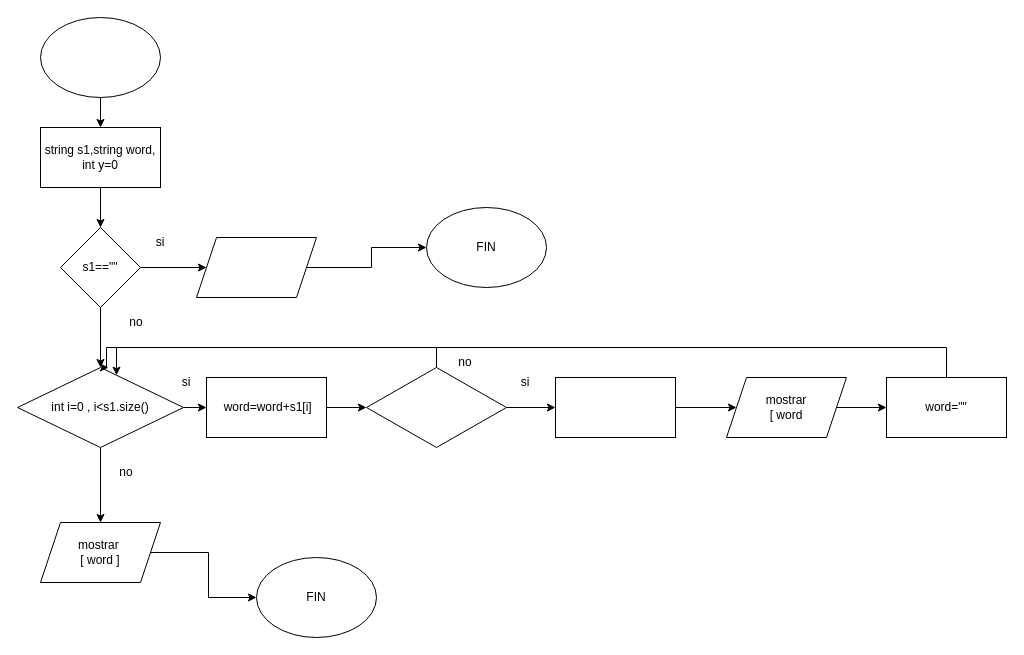
Image size: 1024x655. Some labels were removed from this diagram. Here are the shapes that lost their labels. From the top down, the centre of each, then its label:
pixel 100 57: INICIO 2
pixel 256 267: mostrar ""
pixel 436 407: s1[i]==' '
pixel 615 407: y=word.size() word[y-1]=']'
